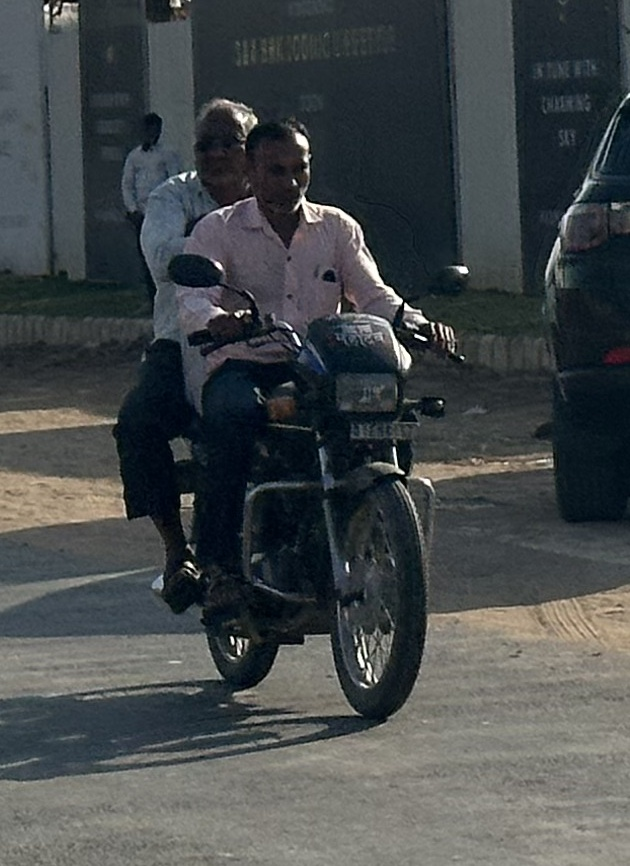BikeWithRider: (98, 81, 455, 738)
NoHelmet: (241, 105, 318, 212), (186, 98, 262, 197)
